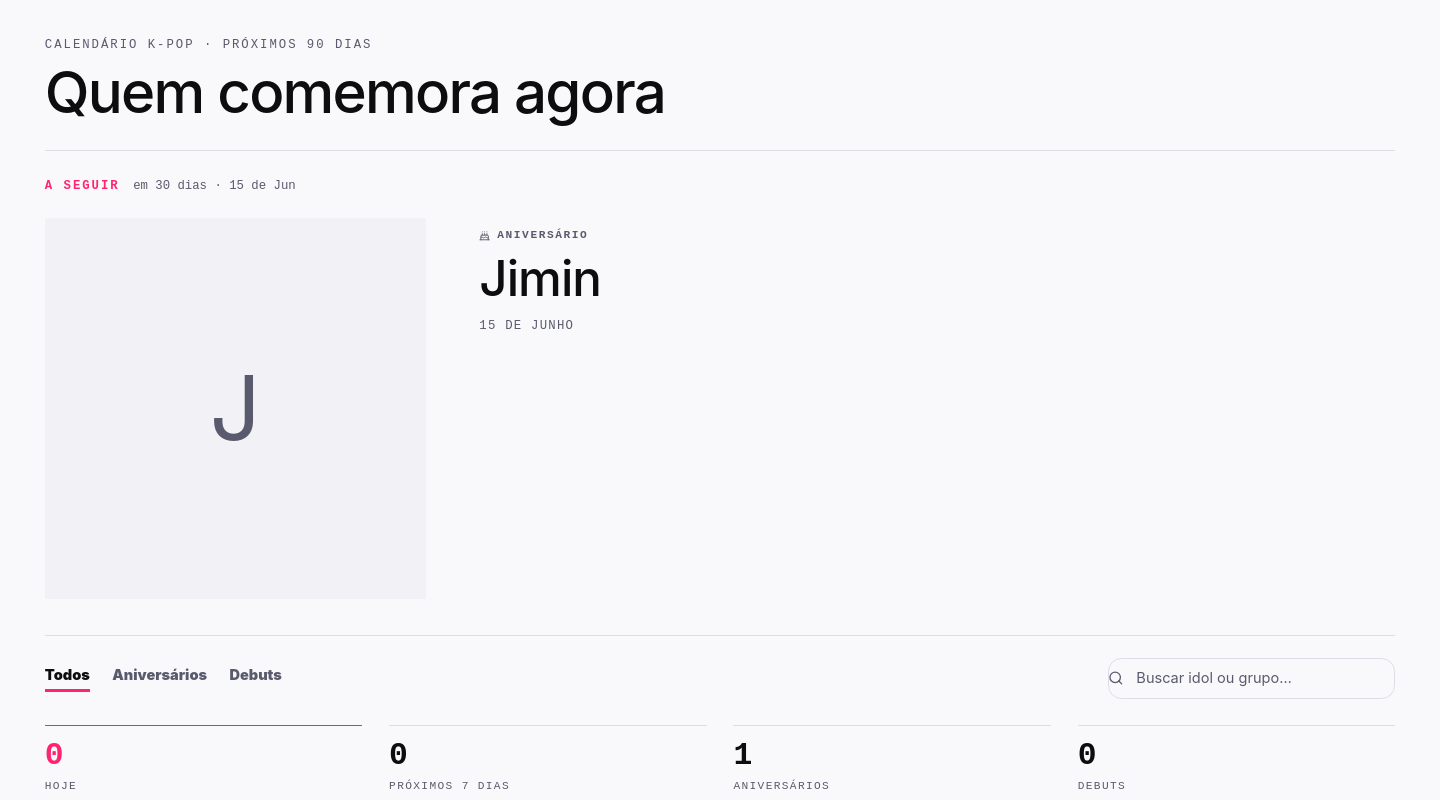
Test: CalendarPage › botão de limpar busca (X) só aparece com texto digitado, e limpa a busca
The width and height of the screenshot is (1440, 800).
Type "xyz" into the search field with placeholder "Buscar idol ou grupo…". click: (1252, 678)
box: left=1108, top=658, right=1395, bottom=699
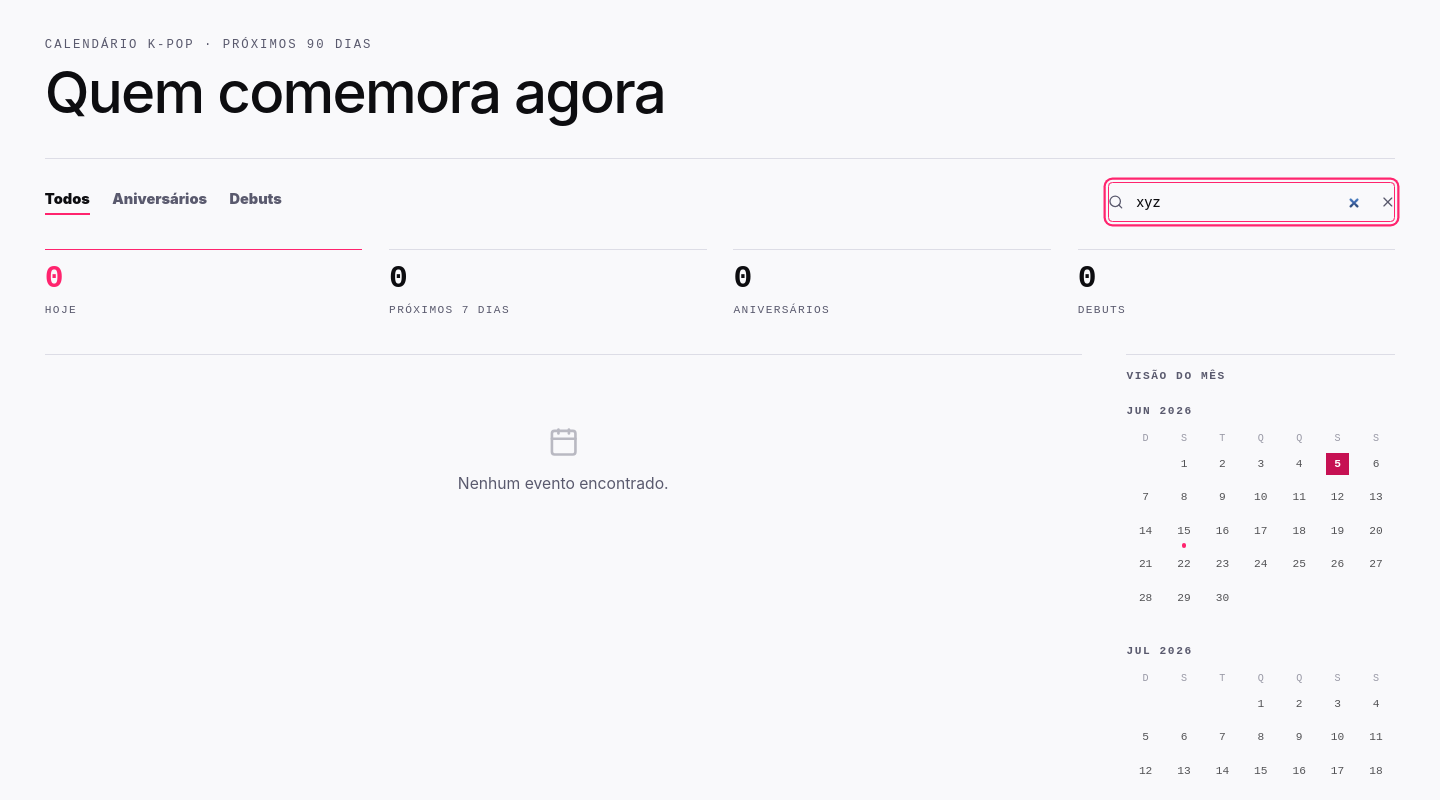
Expected: the link "Jimin" is gone
Click the button named "limpar busca". click: (1387, 202)
box: left=1380, top=194, right=1395, bottom=210
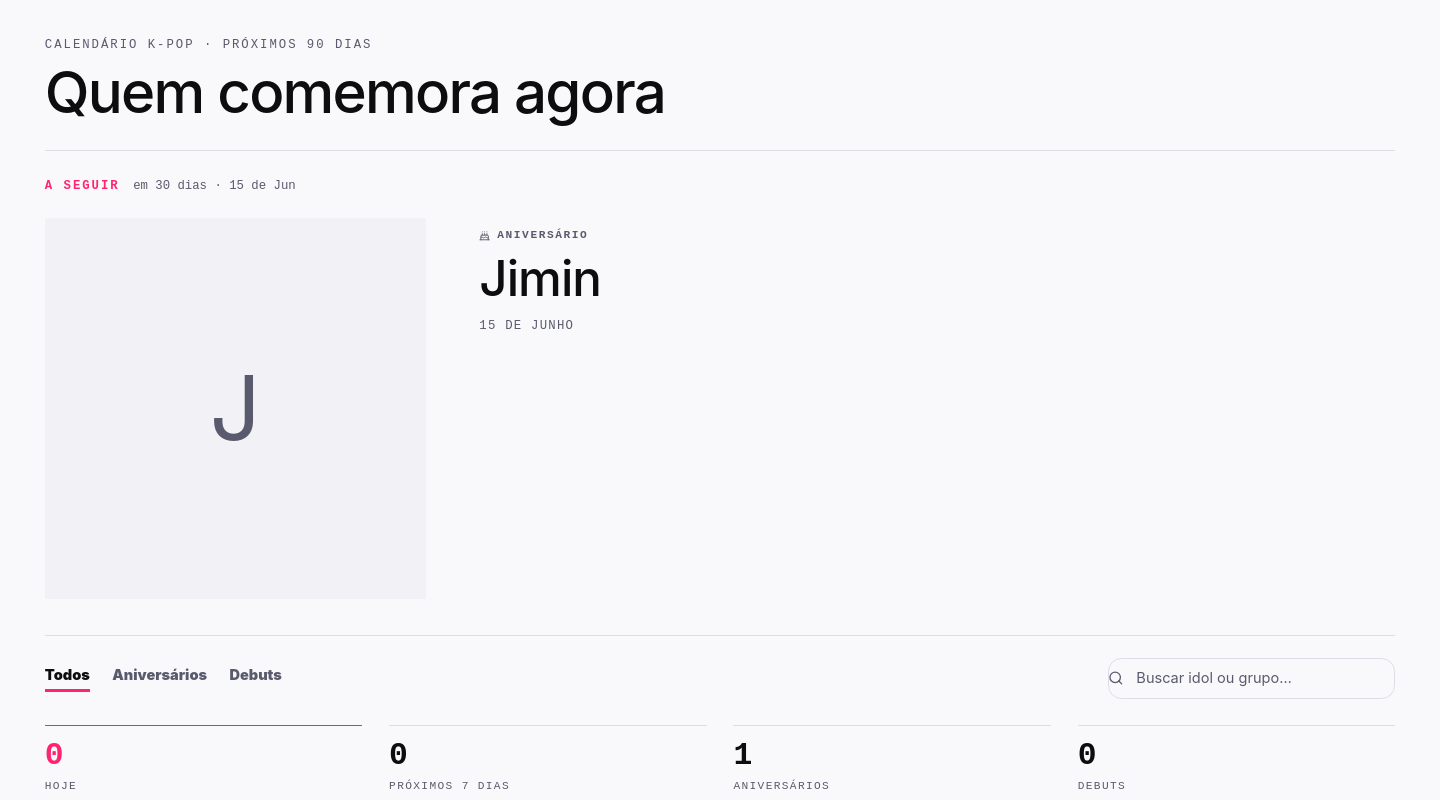
Expected: the text "Jimin" is shown, left=479, top=248, right=601, bottom=308
